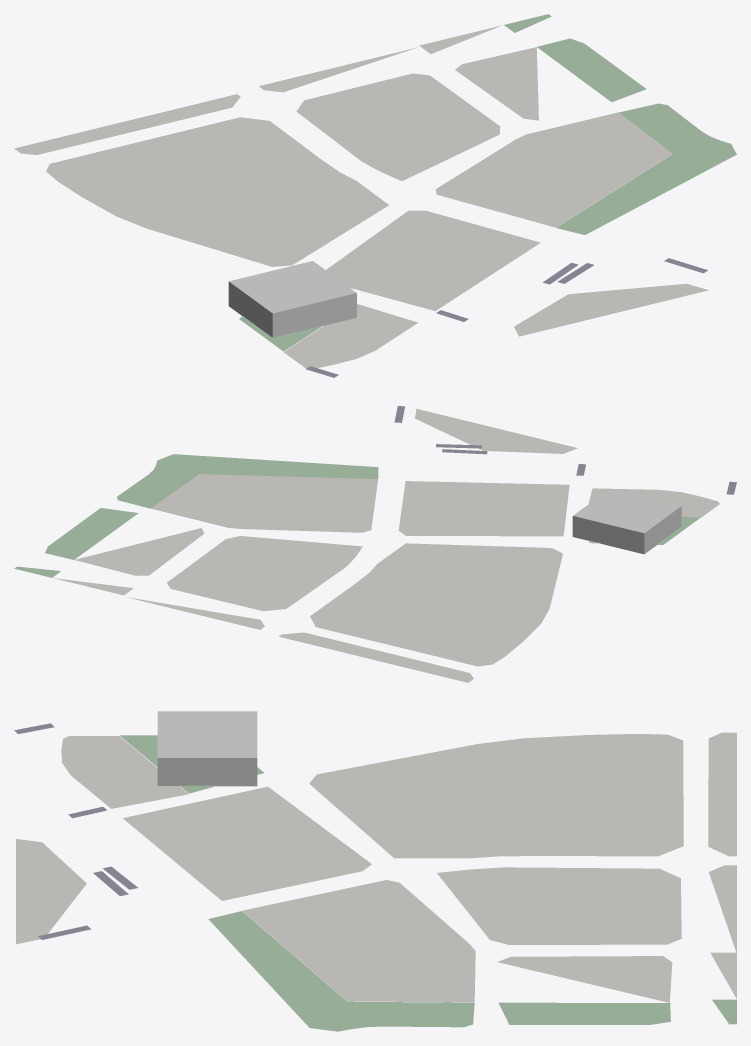
Rendered from 124_67_mid.glb.
3 views of the same model, one above another, from view 1: azimuth 30°, elevation 25°; view 2: azimuth 150°, elevation 25°; view 3: azimuth 270°, elevation 25° (orthographic). The views are drawn at different scales.
Size of the model in its own units: 503 by 21.6 by 501.
